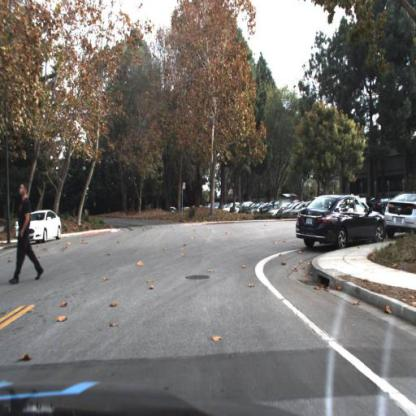car: (294, 191, 387, 248), (295, 194, 386, 251), (14, 206, 63, 247), (14, 208, 63, 246), (386, 192, 416, 247)
pedestrian: (10, 182, 46, 287)
